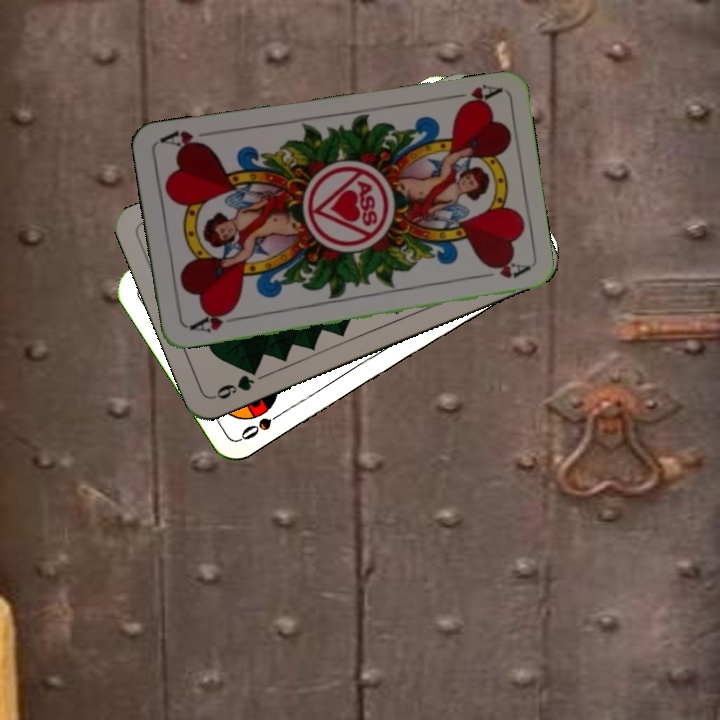G9: (209, 363, 261, 402)
HA: (443, 80, 502, 112), (185, 305, 242, 335)
SO: (236, 405, 290, 443)
